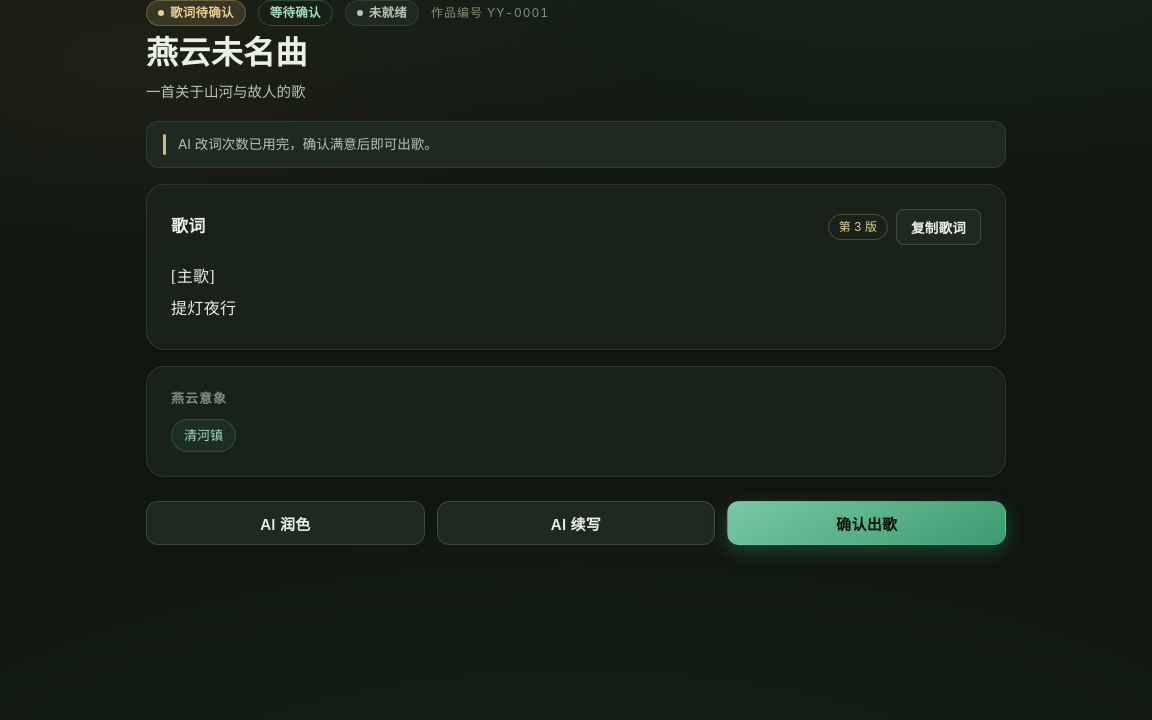
Test case: ConfirmView › keeps non-quota conflicts visible without saying edit attempts are exhausted
The width and height of the screenshot is (1152, 720).
Click the button "AI 润色". click: (285,523)
box: [146, 501, 425, 545]
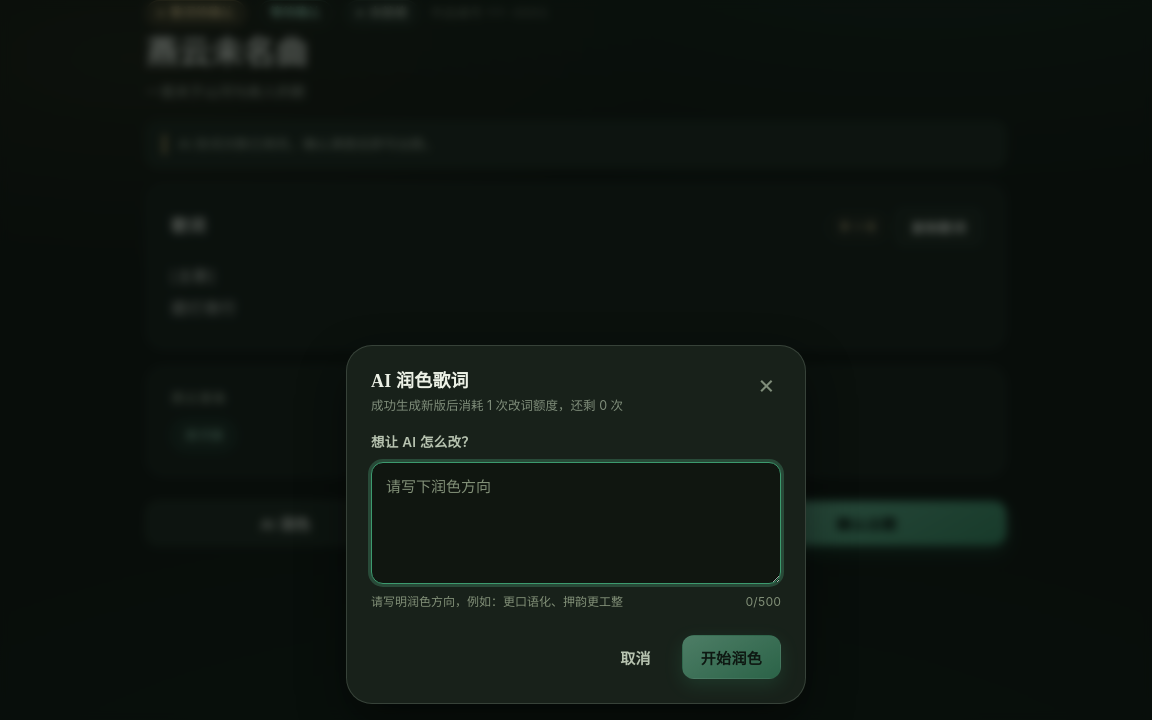
Type "更克制一点" into the text box labelled "想让 AI 怎么改？ 请写明润色方向，例如：更口语化、押韵更工整 0/500". click: (576,523)
box: [371, 462, 781, 584]
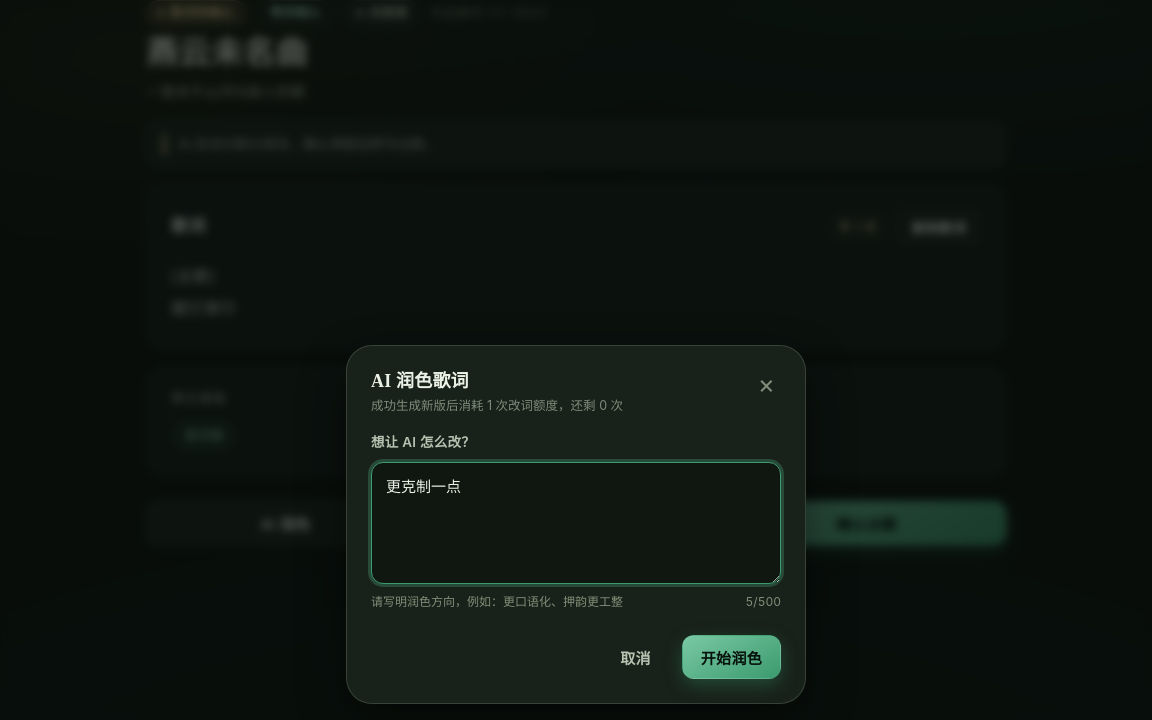
Click the button "开始润色". click: (731,657)
box: [682, 635, 781, 679]
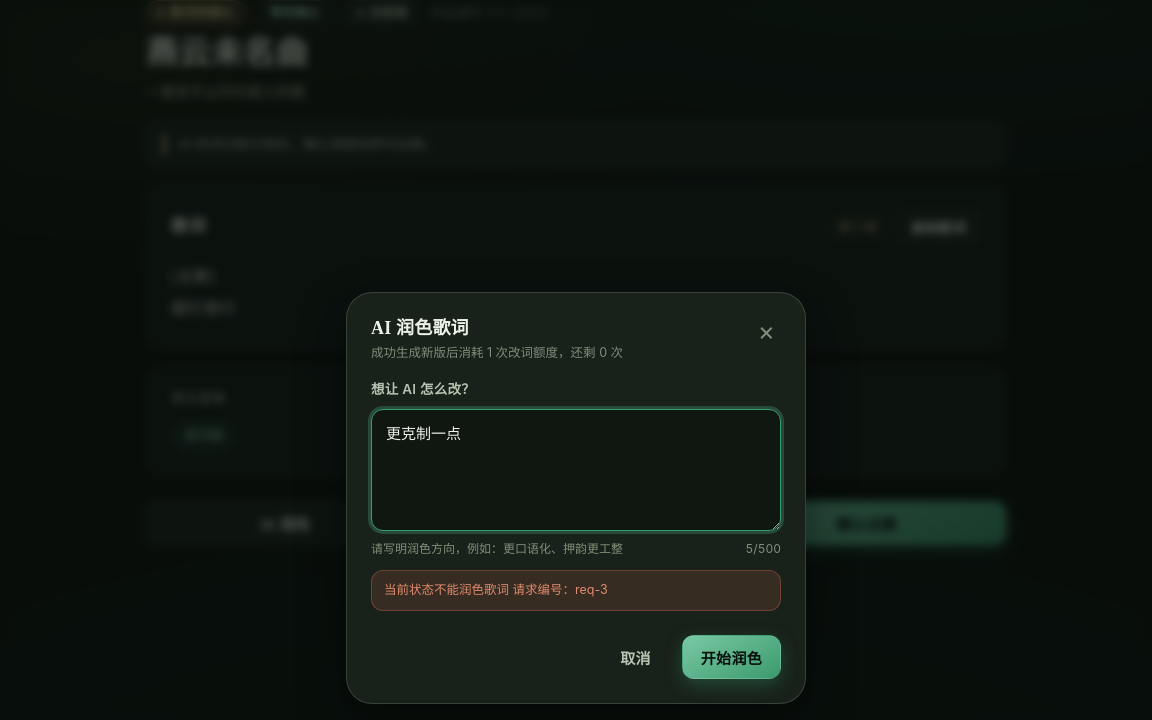
Expected: the message "当前状态不能润色歌词 请求编号：req-3" does not show "改词次数已用完", [371, 570, 781, 611]
Now the message "当前状态不能润色歌词 请求编号：req-3" is shown, box [371, 570, 781, 611]
